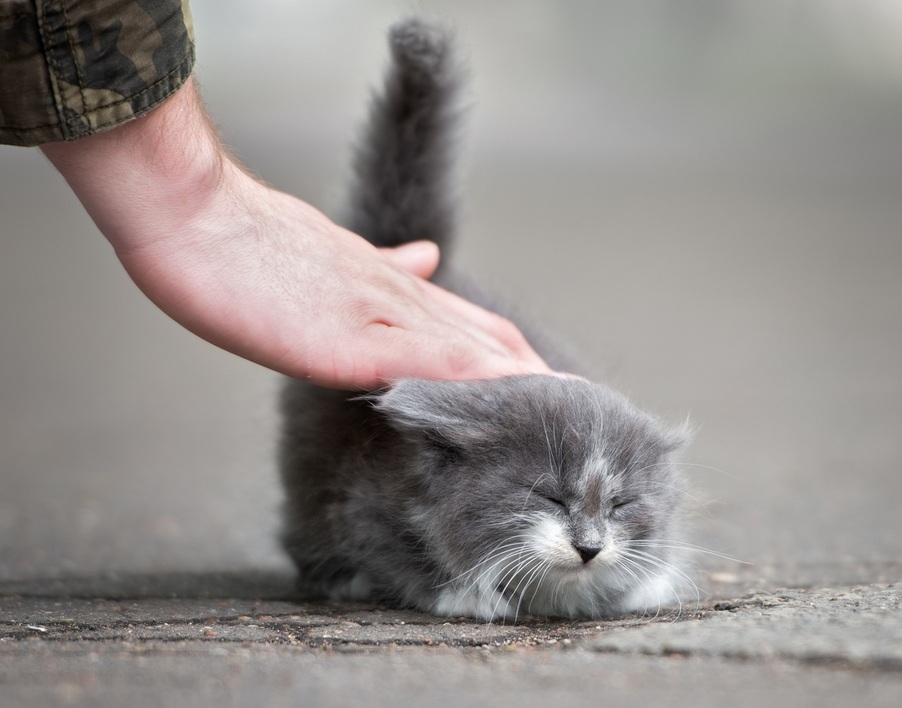cat: (259, 358, 720, 627)
cat-face: (383, 375, 705, 627)
